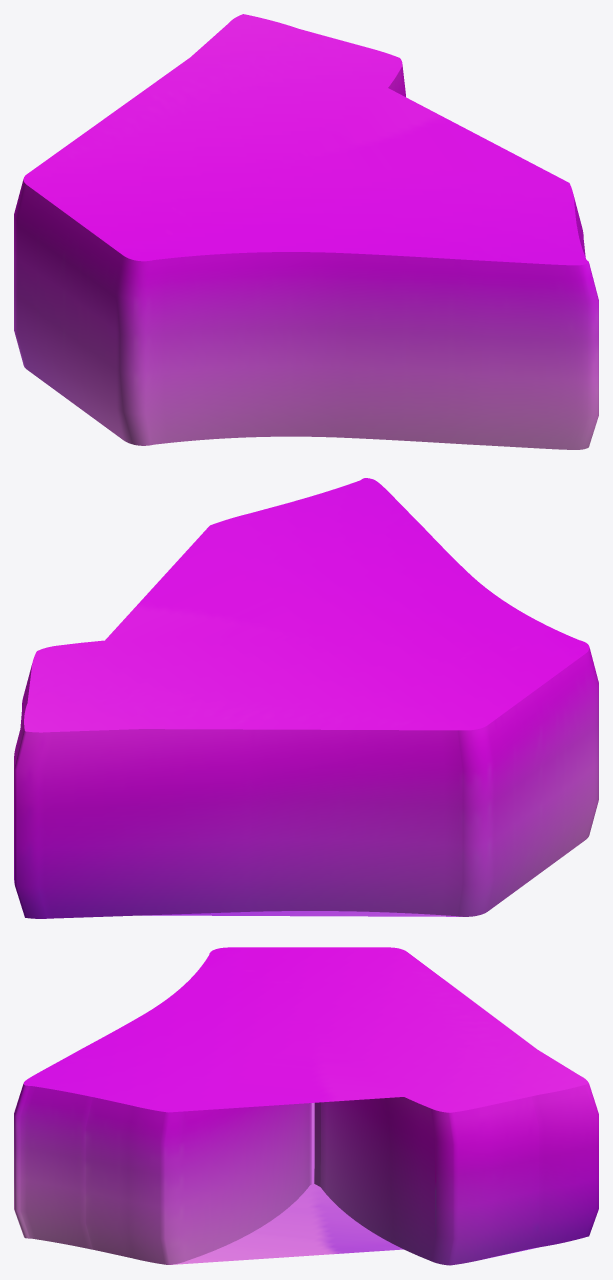
The picture shows the model from 3 angles, top to bottom: view 1: azimuth 30°, elevation 25°; view 2: azimuth 150°, elevation 25°; view 3: azimuth 270°, elevation 25°; orthographic projection. The views are drawn at different scales.
Visible parts, largest first — view 1: Curve; view 2: Curve; view 3: Curve.
Boxes of the visible parts, x1,y1,x2,y2 form: Curve: (14, 14, 598, 449); Curve: (14, 478, 598, 918); Curve: (14, 947, 598, 1265).
Size of the model in its own units: 27.3 by 11.36 by 39.44.
Materials: 1 (1 with a texture image).
